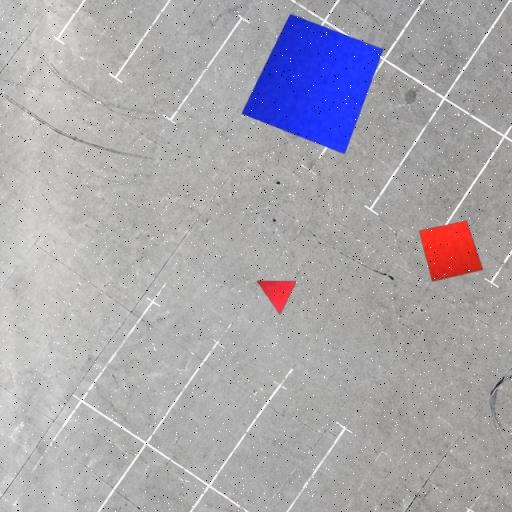BLUE_SQUARE: (241, 13, 384, 155)
RED_SQUARE: (418, 220, 484, 282)
